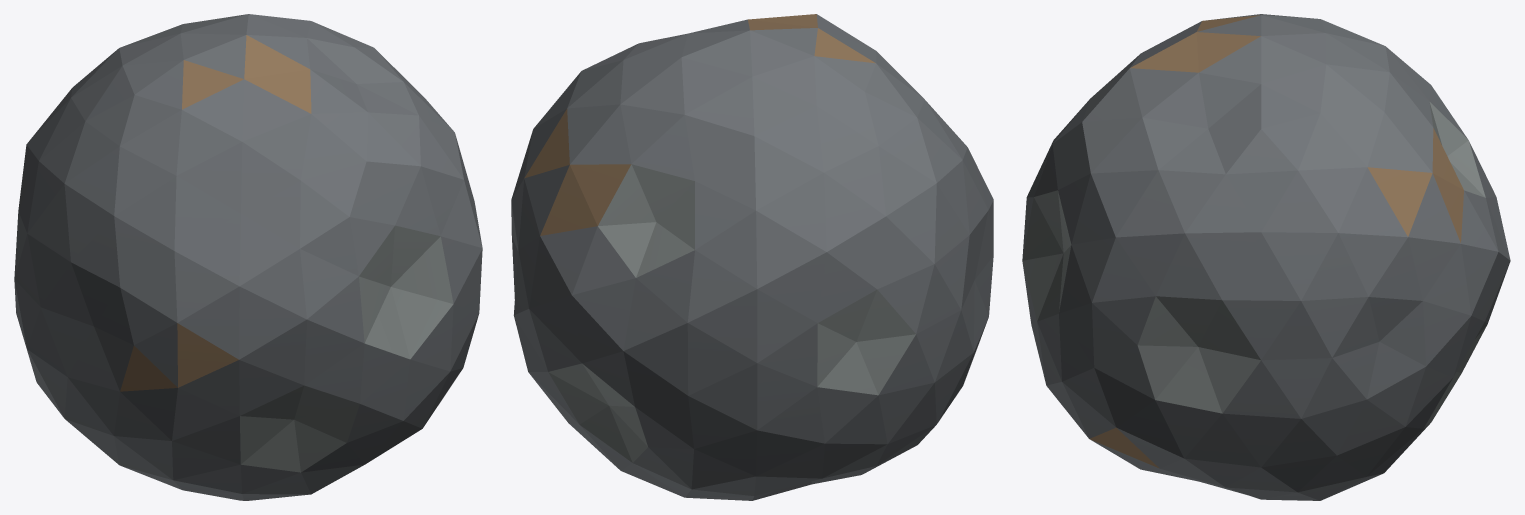
The model's file is balls.glb.
The picture shows the model from 3 angles, left to right: view 1: azimuth 30°, elevation 25°; view 2: azimuth 150°, elevation 25°; view 3: azimuth 270°, elevation 25°; orthographic projection. The views are drawn at different scales.
Parts seen in each view (by area): view 1: balls; view 2: balls; view 3: balls.
Part boxes in pixels (x1,y1,x2,y2): balls: (14, 14, 482, 500); balls: (511, 14, 993, 500); balls: (1022, 14, 1510, 500).
Bounding box in the file's own units: 0.3386 × 0.3438 × 0.3477.
